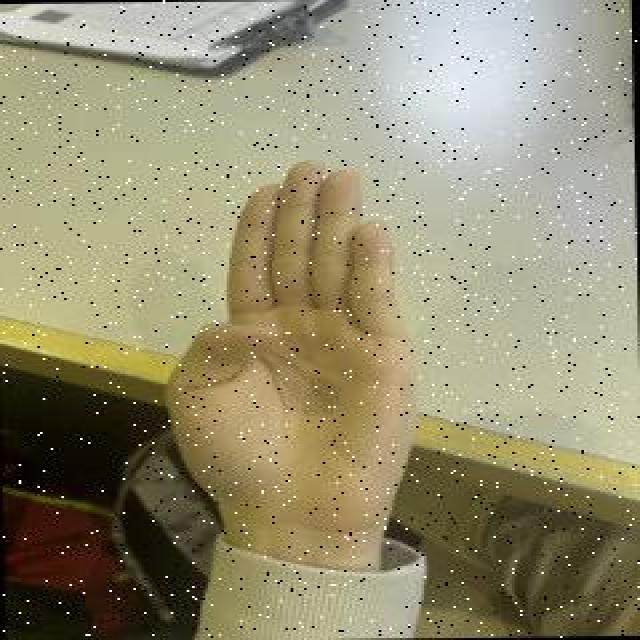B: (149, 153, 427, 549)
